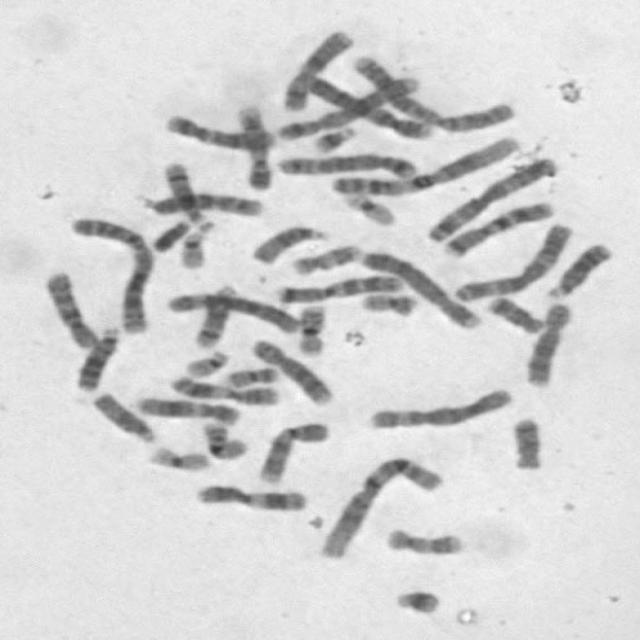A1: (313, 450, 447, 560), (325, 130, 524, 198)
A2: (345, 49, 519, 134), (63, 210, 157, 336)
A3: (420, 152, 561, 245), (448, 217, 576, 302)
B4: (356, 245, 484, 331), (293, 71, 437, 141)
B5: (274, 71, 433, 142), (271, 148, 424, 181)
C10: (37, 265, 103, 351), (140, 187, 266, 218)
C11: (164, 371, 284, 406), (190, 480, 310, 512)
C12: (160, 109, 280, 151), (130, 391, 242, 426)
C6: (362, 382, 515, 431), (161, 286, 303, 336)
C7: (438, 194, 559, 258), (270, 270, 406, 304)
C8: (245, 332, 336, 408), (520, 297, 577, 389)
C9: (253, 416, 334, 486), (229, 99, 277, 192)
D13: (541, 238, 614, 300), (70, 321, 124, 393)
D14: (157, 156, 218, 233), (187, 280, 238, 349)
D15: (86, 388, 160, 445), (244, 220, 330, 265)
E16: (196, 416, 251, 461), (291, 299, 330, 357)
E17: (380, 522, 469, 558), (287, 238, 365, 278)
E18: (482, 290, 547, 334), (505, 411, 547, 472)
F19: (336, 186, 399, 228), (142, 442, 212, 474)
F20: (355, 287, 421, 318), (218, 361, 282, 389)
G21: (386, 582, 446, 616), (306, 120, 359, 154)
G22: (178, 346, 232, 378), (174, 224, 211, 270)
X: (274, 23, 357, 114)
Y: (147, 214, 193, 253)
